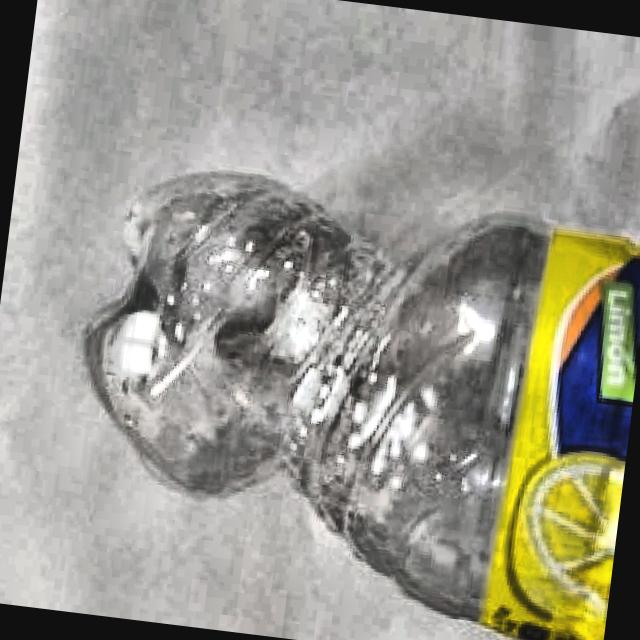plastic bottle: (51, 155, 640, 640)
